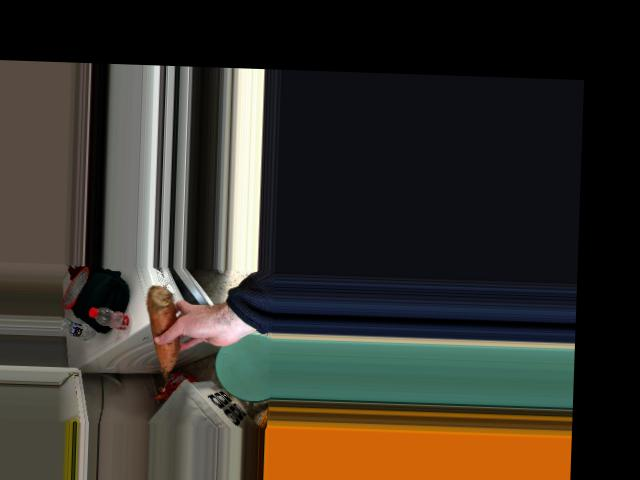sweet_potato: (151, 285, 178, 376)
